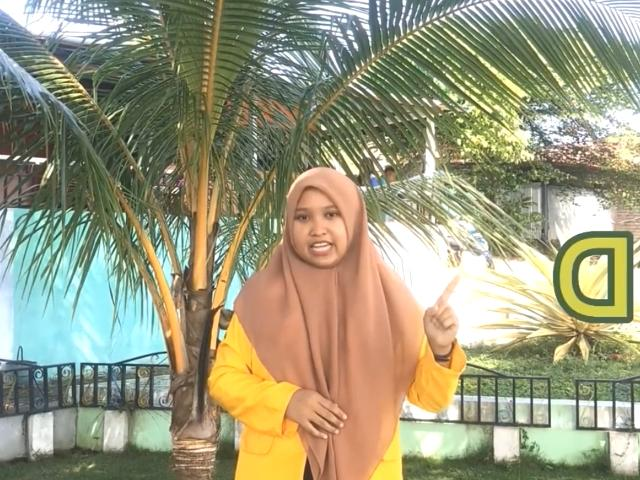D: (421, 274, 462, 348)
